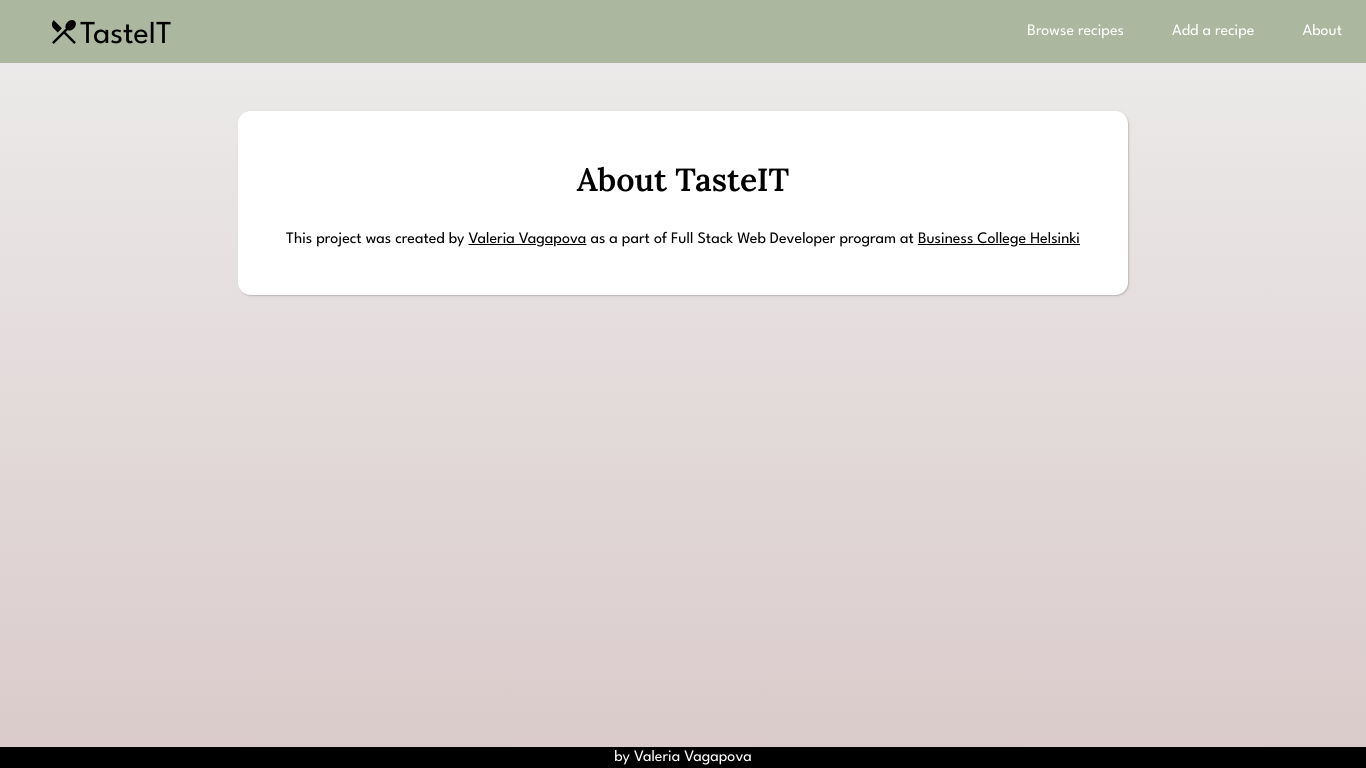
Test: Navigation tests › Navigated to recipes page, it's rendered correctly
The width and height of the screenshot is (1366, 768).
Click the link "Browse recipes" at (1076, 32), box [1027,24,1124,39]
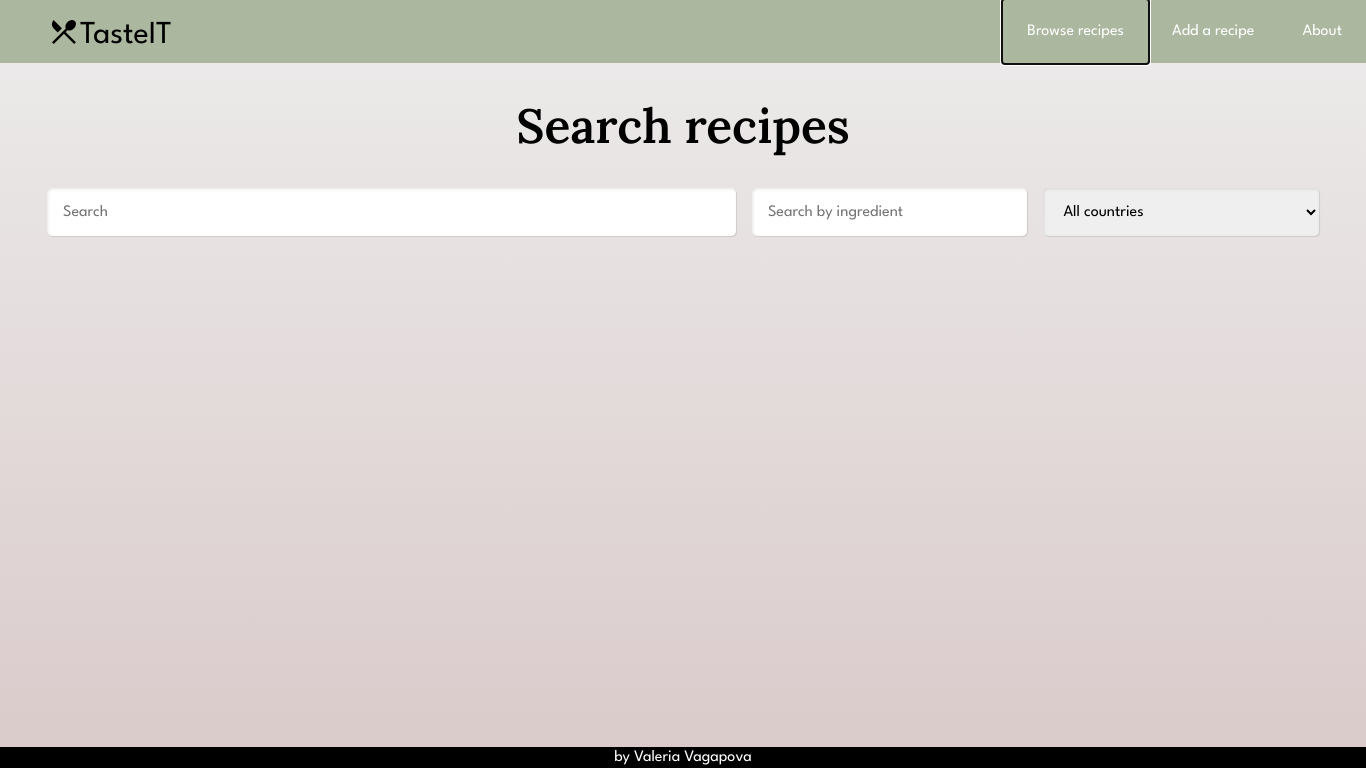
Expected: the heading "Search recipes" is shown, [516,95,850,156]
